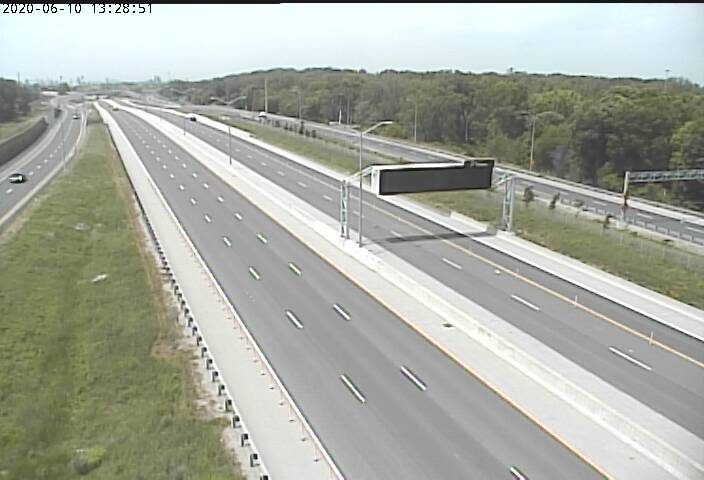time_stamp: (1, 1, 156, 18)
